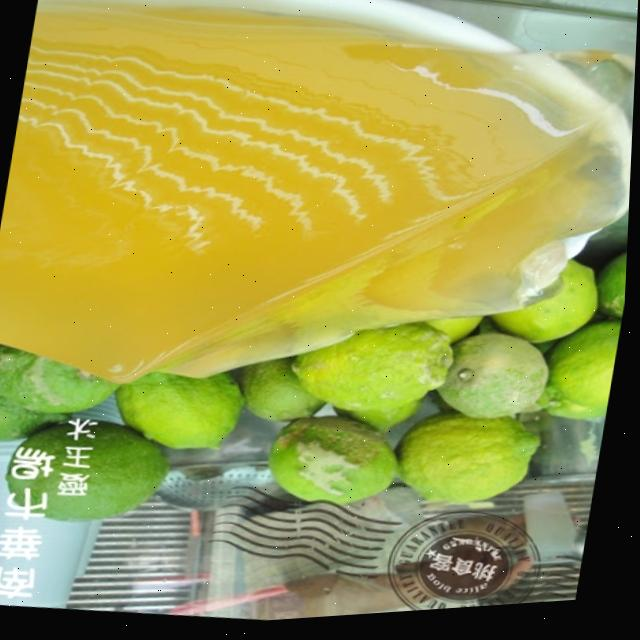蛋糕甜品: (18, 13, 638, 629)
